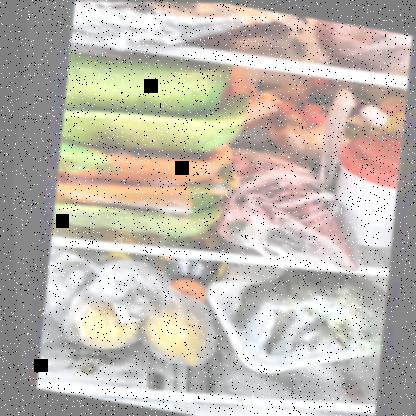broccoli: (232, 263, 389, 368)
chicken: (47, 44, 247, 241)
lemon: (139, 305, 214, 368), (64, 296, 141, 353)
tomato: (307, 18, 415, 79)
